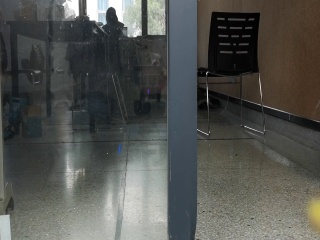room: (5, 2, 319, 239)
